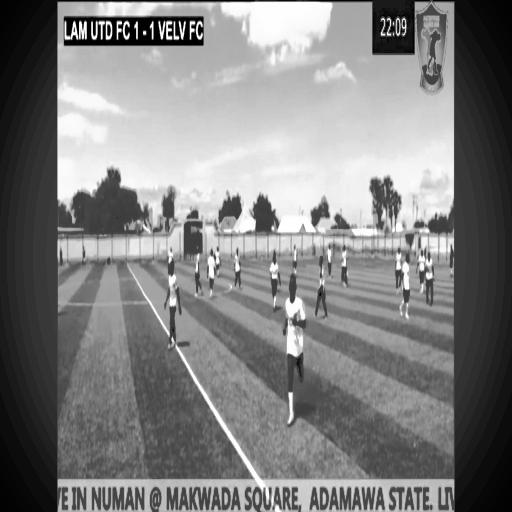keeper1: (446, 234, 455, 284)
team1: (164, 259, 184, 361), (316, 249, 328, 324), (392, 242, 403, 298), (338, 236, 350, 286), (192, 244, 202, 302), (426, 246, 434, 310), (233, 242, 243, 287), (325, 238, 333, 280)
team2: (285, 270, 308, 424), (399, 255, 412, 320), (268, 252, 281, 313), (206, 239, 216, 301), (417, 246, 425, 296), (291, 239, 299, 272), (165, 237, 173, 266)
